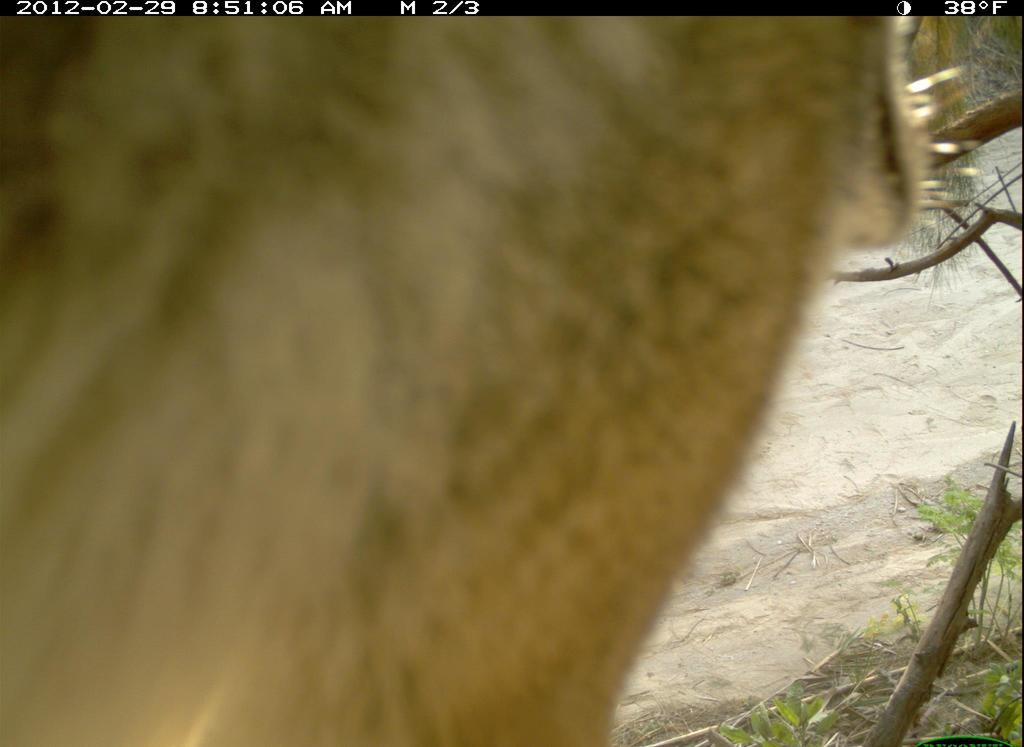coyote: (1, 17, 987, 747)
